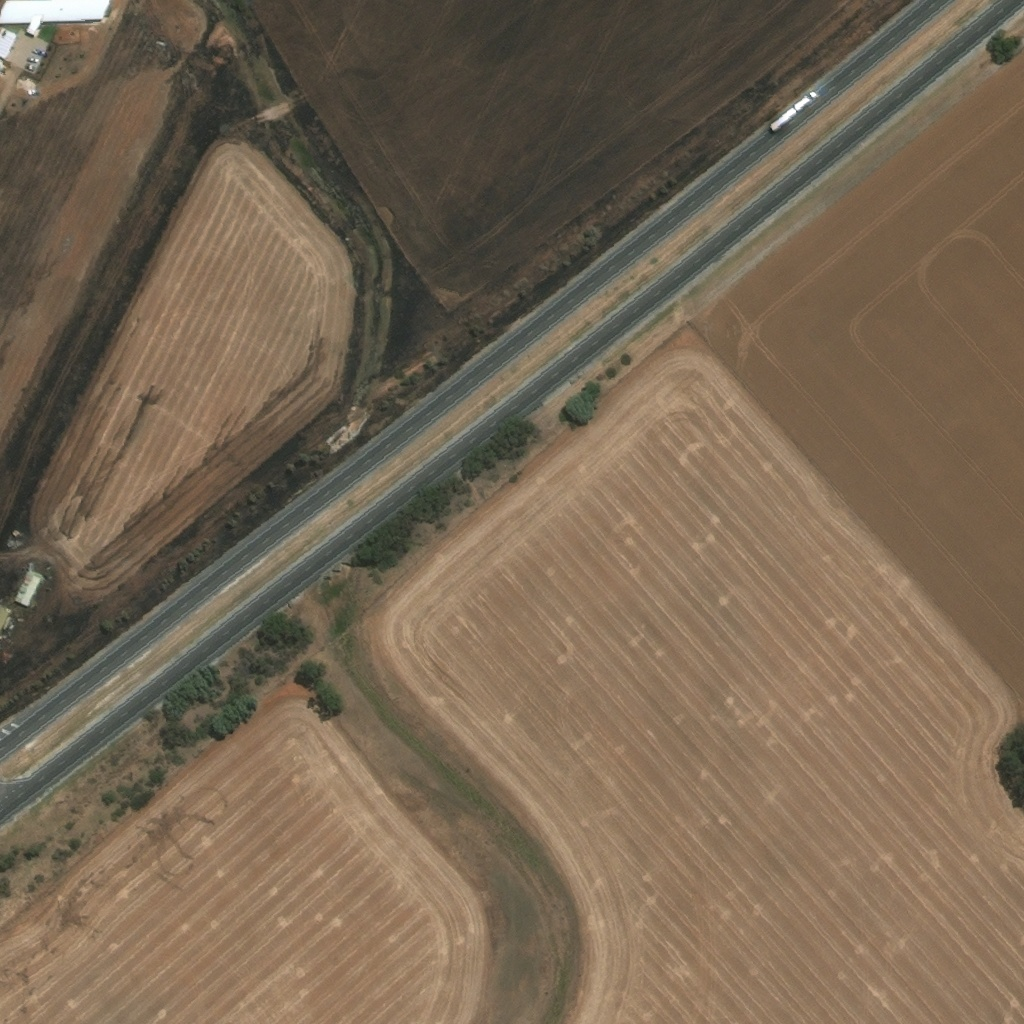1 minor-damage: (14, 569, 43, 607), (0, 607, 10, 631), (11, 530, 18, 536), (6, 541, 12, 547)
4 un-classified: (0, 0, 111, 34), (0, 27, 18, 59)
